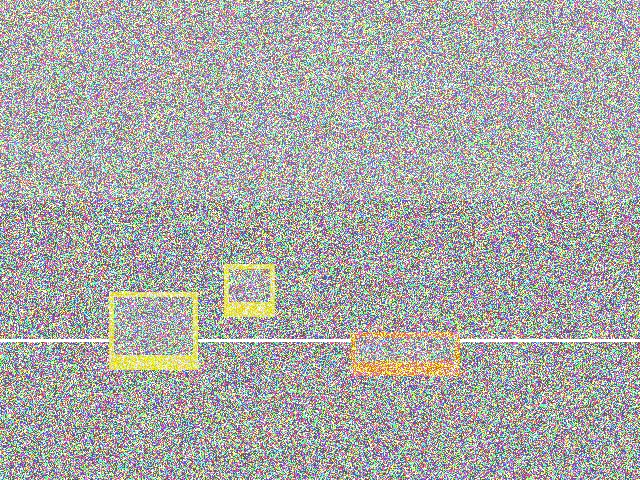bus: (128, 130, 280, 194)
car: (218, 281, 321, 366)
motorcycle: (272, 119, 449, 177)
